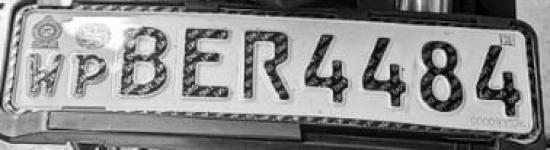4: (475, 43, 523, 116), (361, 37, 408, 108), (305, 34, 348, 104)
8: (417, 39, 464, 114)
B: (123, 27, 171, 94)
E: (182, 26, 232, 96)
P: (73, 52, 107, 97)
R: (245, 30, 288, 98)
W: (28, 53, 62, 97)
